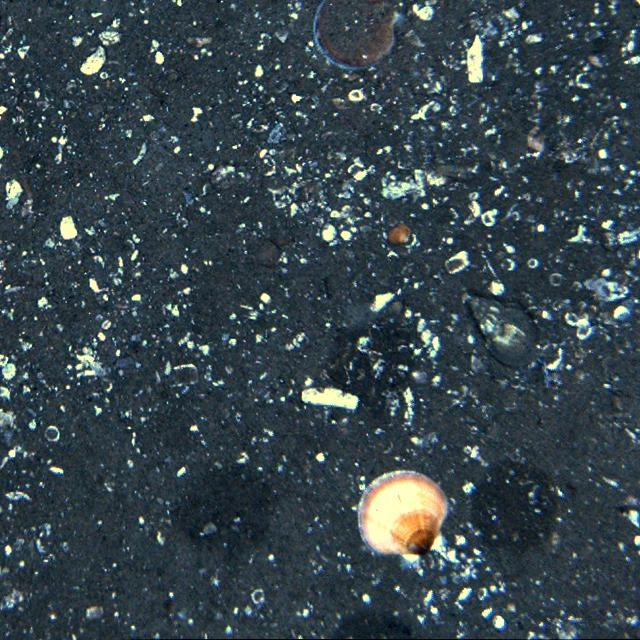whelk: (465, 294, 541, 371)
